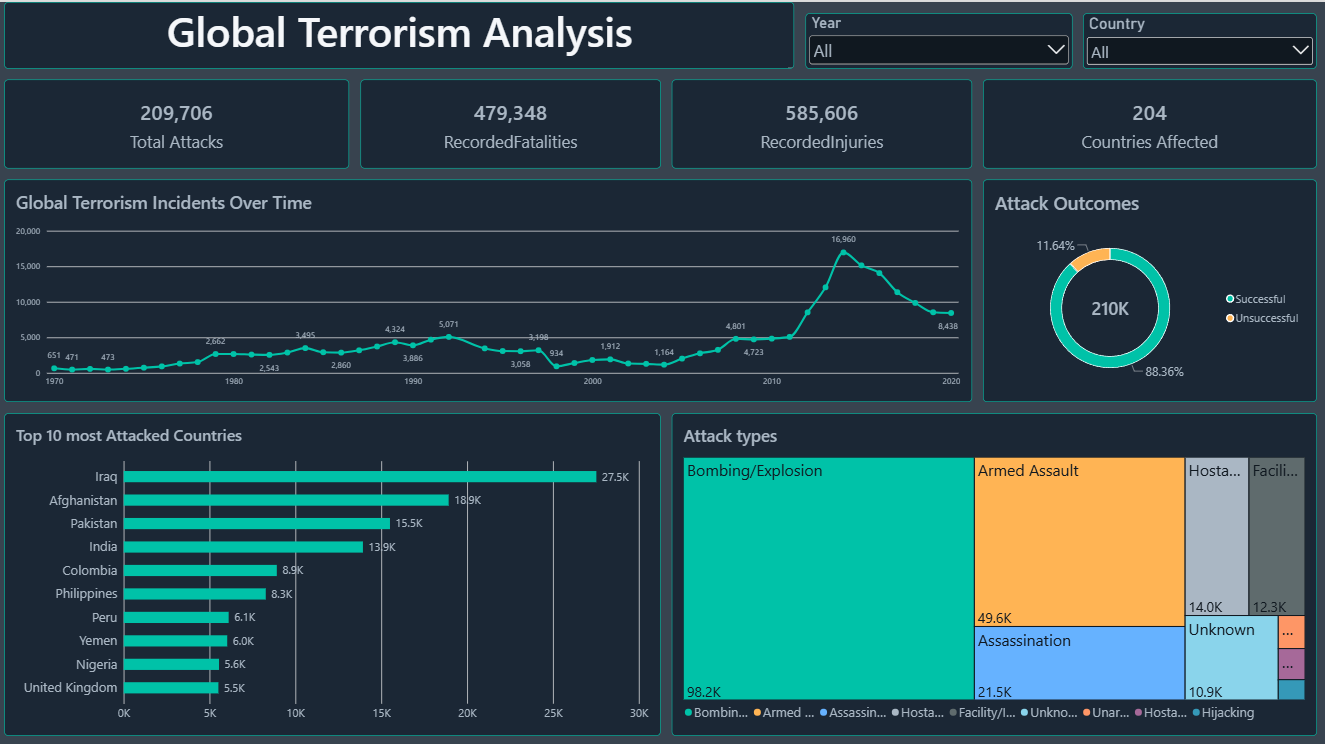

The page's visual inventory and layout, read from the dashboard file:
{"tool":"powerbi","page":{"name":"Executive Overview","canvas":[1920,1080],"ordinal":0},"visuals":[{"type":"textbox","title":"Global Terrorism Analysis","box":[16,0,1136,96],"z":0},{"type":"card","fields":{"Values":["Measure.Total Attacks"]},"box":[16,112,496,128],"z":1000},{"type":"card","fields":{"Values":["Measure.RecordedFatalities"]},"box":[528,112,432,128],"z":2000},{"type":"card","fields":{"Values":["Measure.RecordedInjuries"]},"box":[976,112,432,128],"z":3000},{"type":"card","fields":{"Values":["Measure.Countries Affected"]},"box":[1424,112,480,128],"z":4000},{"type":"lineChart","title":"Global Terrorism Incidents Over Time","fields":{"Category":["GlobalTerrorism.iyear"],"Y":["Measure.Total Attacks"]},"box":[16,256,1392,320],"z":5000},{"type":"donutChart","title":"Attack Outcomes","fields":{"Category":["GlobalTerrorism.Attack Outcome"],"Y":["Measure.Total Attacks"]},"box":[1424,256,480,320],"z":6000},{"type":"clusteredBarChart","title":"Top 10 most Attacked Countries","fields":{"Category":["GlobalTerrorism.country_txt"],"Y":["CountNonNull(GlobalTerrorism.eventid)"]},"box":[16,592,944,464],"z":7000},{"type":"treemap","title":"Attack types","fields":{"Group":["GlobalTerrorism.attacktype1_txt"],"Values":["CountNonNull(GlobalTerrorism.eventid)"]},"box":[976,592,928,464],"z":8000},{"type":"slicer","fields":{"Values":["GlobalTerrorism.iyear"]},"box":[1168,16,384,80],"z":9000},{"type":"slicer","fields":{"Values":["GlobalTerrorism.country_txt"]},"box":[1568,16,336,80],"z":10000}]}

Visuals, with their boxes in screenshot pixels (x1, y1, x2, y2), scaled from the page's 1920x1080 canvas onto the 1325x744 screenshot:
"Global Terrorism Analysis" textbox: 11/0/795/66
card - Measure.Total Attacks: 11/77/353/165
card - Measure.RecordedFatalities: 364/77/662/165
card - Measure.RecordedInjuries: 674/77/972/165
card - Measure.Countries Affected: 983/77/1314/165
"Global Terrorism Incidents Over Time" lineChart: 11/176/972/397
"Attack Outcomes" donutChart: 983/176/1314/397
"Top 10 most Attacked Countries" clusteredBarChart: 11/408/662/727
"Attack types" treemap: 674/408/1314/727
slicer - GlobalTerrorism.iyear: 806/11/1071/66
slicer - GlobalTerrorism.country_txt: 1082/11/1314/66
